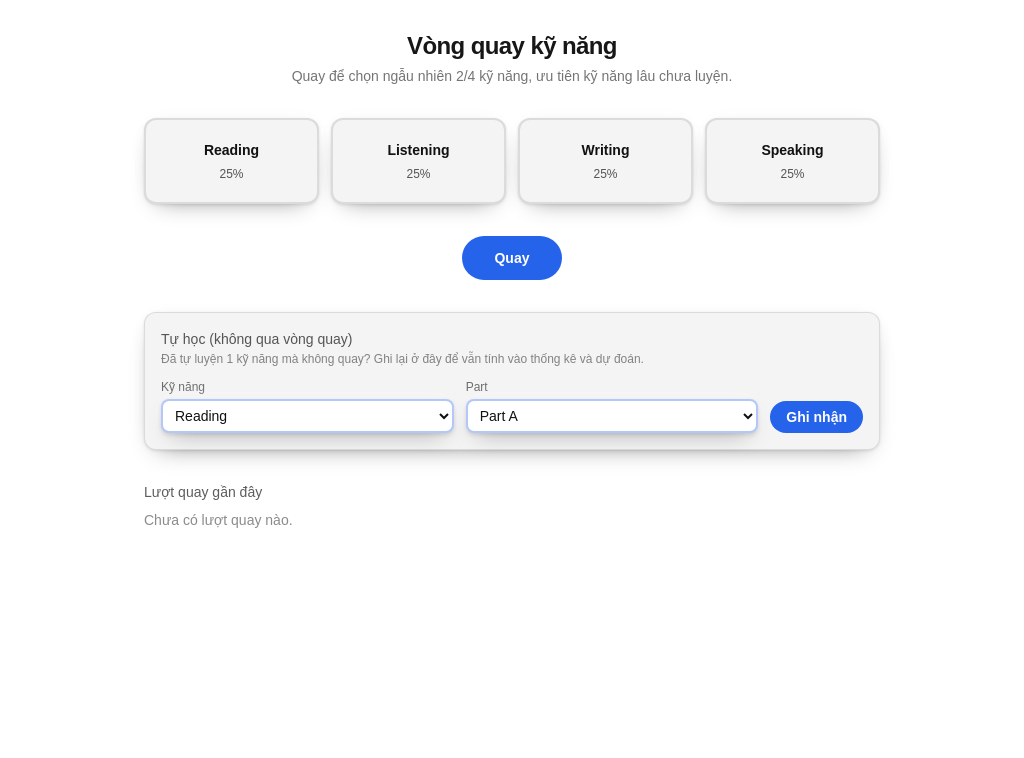
Test: Spinner › resets the cascade display (back to idle) after the just-rolled session is deleted from Lượt quay gần đây
Step 1. Click the button "Quay" → (512, 258), box [462,236,562,280]
(page scrolled)
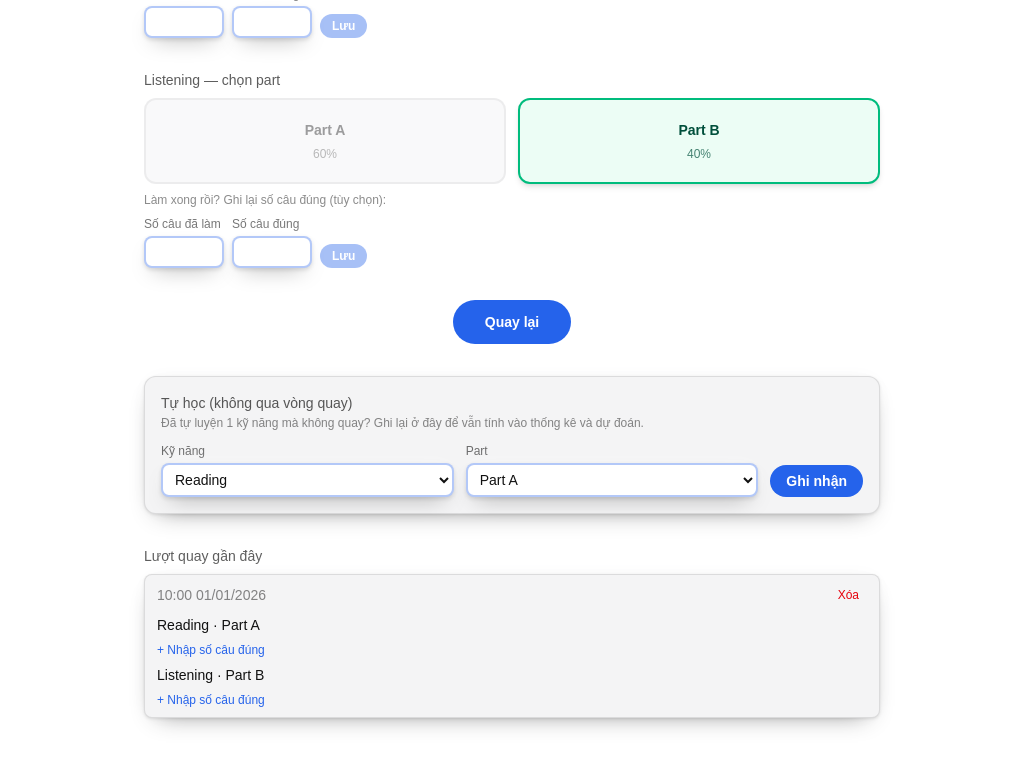
Now the button "Quay lại" is shown, box [453,300,571,344]
Step 2. Click the button with aria-label "Xóa lượt quay" → (848, 595), box [830,583,867,607]
(page scrolled)
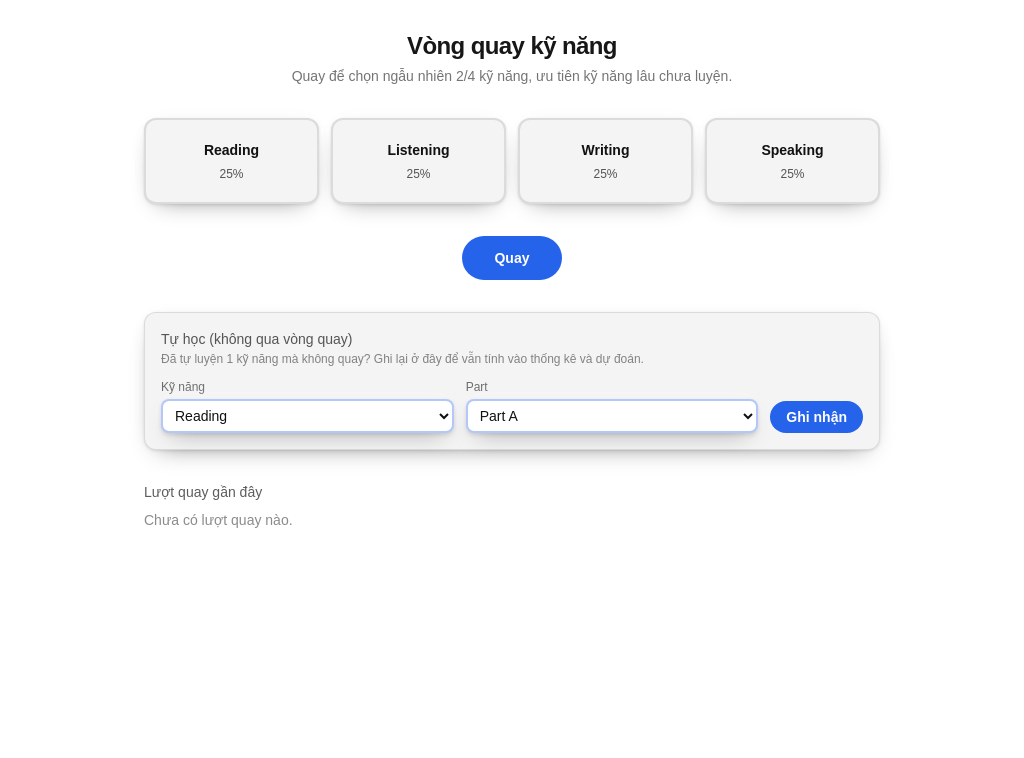
Expected: the button "Quay" is shown, [462,236,562,280]
Now the heading "Listening — chọn part" is gone
